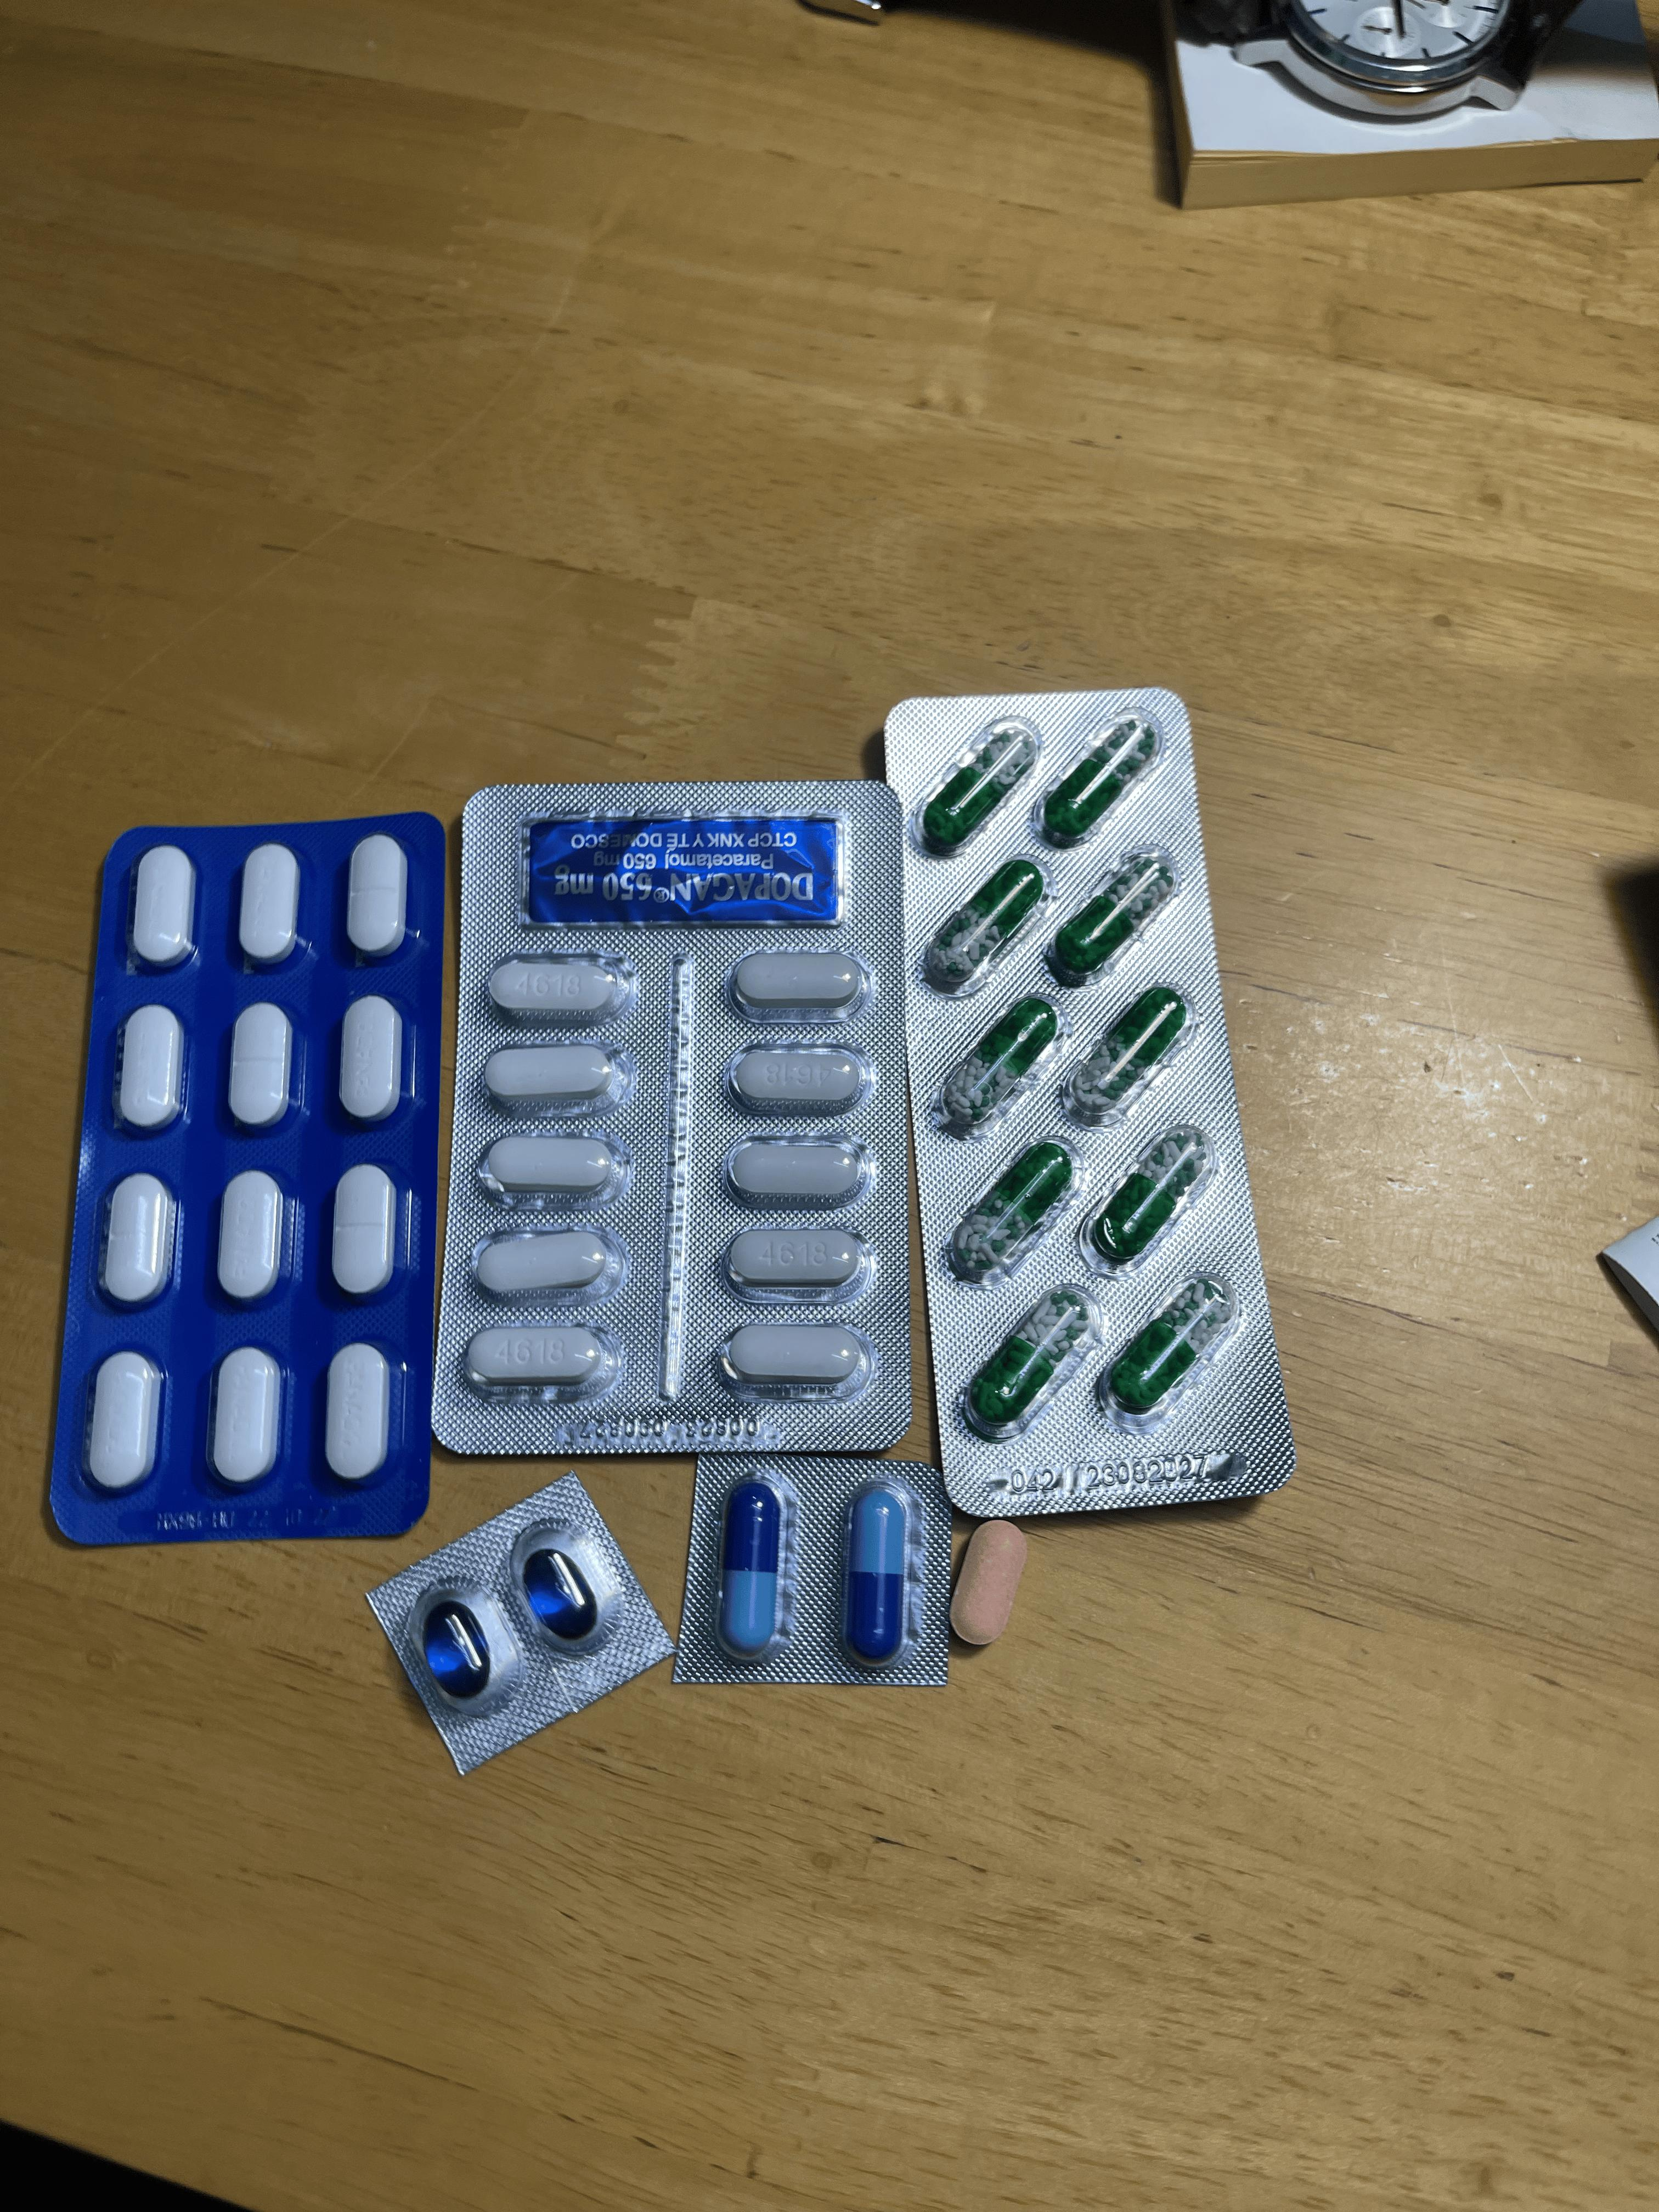Lincomyxin_500mg: (525, 1545, 598, 1637), (423, 1599, 491, 1693)
Loratadine_10mg: (950, 1521, 1028, 1642)
Paracetamol_350mg: (84, 1350, 162, 1493), (209, 1346, 284, 1489), (101, 1172, 176, 1308), (322, 1343, 392, 1482), (329, 1163, 399, 1299), (216, 1170, 286, 1305), (115, 1005, 185, 1134), (227, 1001, 295, 1130), (340, 996, 404, 1123), (129, 845, 195, 968), (237, 843, 301, 965), (345, 836, 408, 958)
Paracetamol_500mg: (464, 1320, 612, 1393), (721, 1226, 873, 1292), (725, 1136, 875, 1202), (721, 1324, 871, 1390), (725, 1045, 873, 1111), (472, 1230, 615, 1298), (727, 949, 871, 1015), (481, 1132, 624, 1197), (483, 1043, 626, 1106), (486, 958, 633, 1019)
Paracetamol_650mg: (1101, 1261, 1239, 1420), (964, 1282, 1100, 1435), (1084, 1122, 1213, 1268), (1061, 984, 1192, 1127), (948, 1137, 1077, 1282), (1047, 846, 1180, 986), (936, 995, 1061, 1134), (917, 714, 1040, 855), (922, 857, 1049, 991), (1037, 709, 1161, 846)
pill: (718, 1477, 788, 1655), (843, 1480, 908, 1662)
